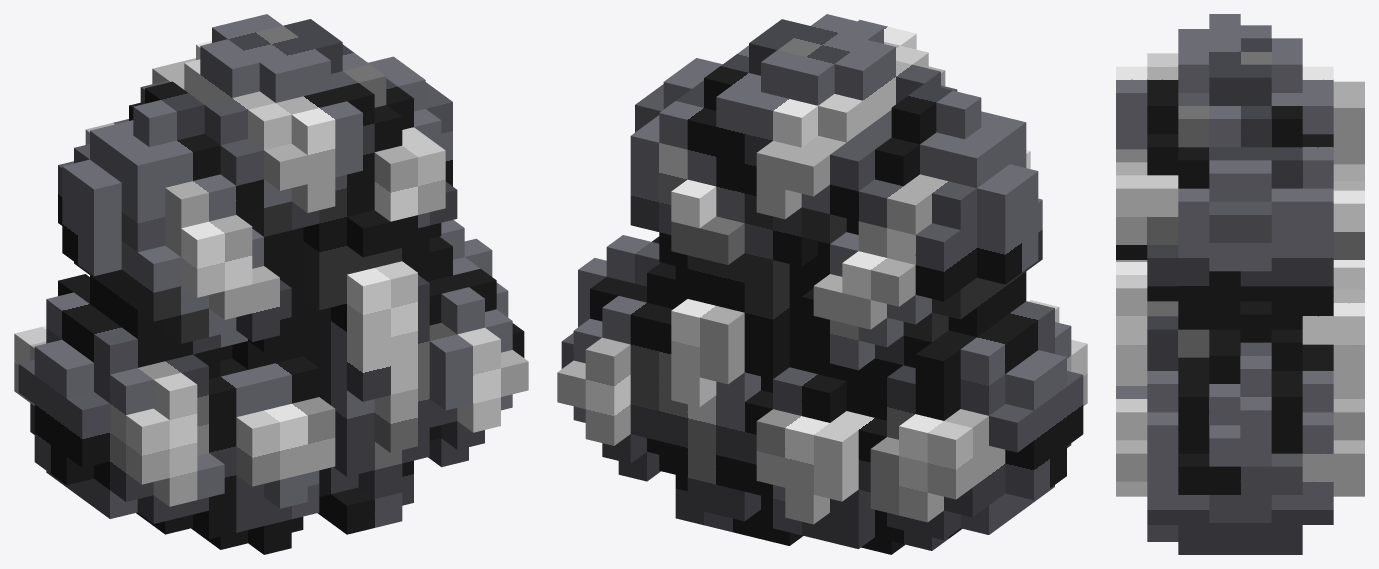
Rendered from ui_icon_ore.gltf.
3 views of the same model, side by side, from view 1: azimuth 30°, elevation 25°; view 2: azimuth 150°, elevation 25°; view 3: azimuth 270°, elevation 25° (orthographic). The views are drawn at different scales.
Visible parts, largest first — view 1: ui_icon_ore-Mesh; view 2: ui_icon_ore-Mesh; view 3: ui_icon_ore-Mesh.
Part boxes in pixels (x1,y1,x2,y2): ui_icon_ore-Mesh: [14, 14, 528, 554]; ui_icon_ore-Mesh: [557, 14, 1087, 554]; ui_icon_ore-Mesh: [1116, 14, 1364, 554].
Size of the model in its own units: 16 by 16 by 8.
1 material, 1 textured.
